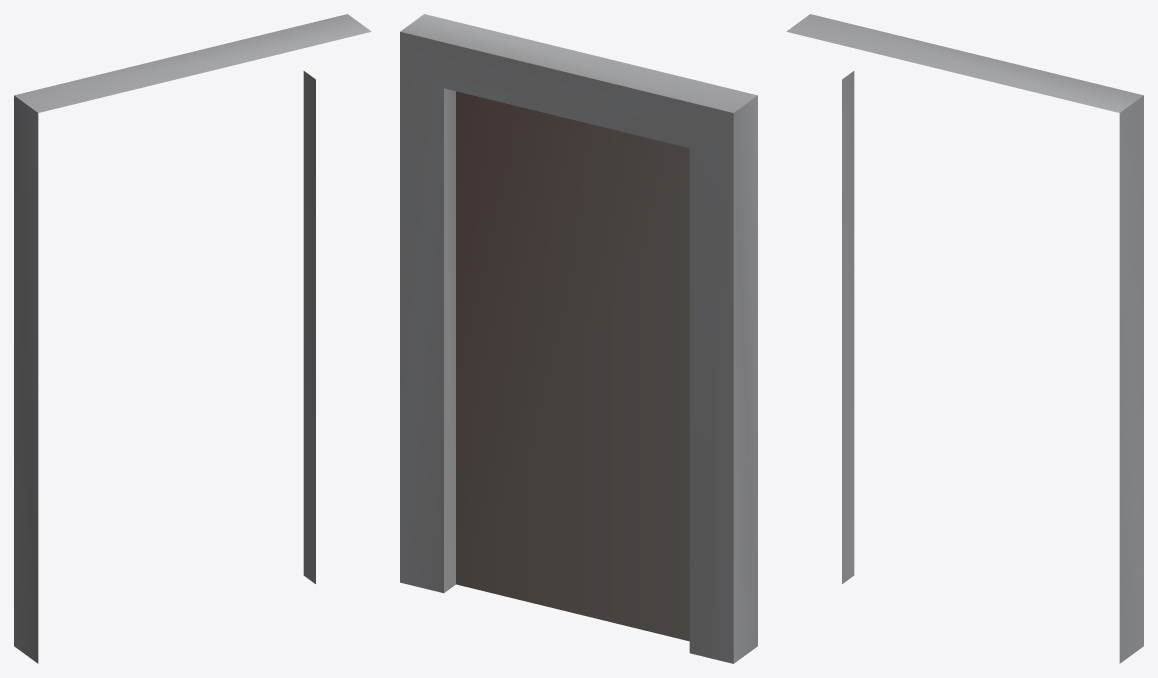
File: door-type-b.glb
The picture shows the model from 3 angles, left to right: view 1: azimuth 30°, elevation 25°; view 2: azimuth 150°, elevation 25°; view 3: azimuth 330°, elevation 25°; orthographic projection.
Visible parts, largest first — view 1: door-type-b; view 2: door-type-b; view 3: door-type-b.
Part boxes in pixels (bbox=[...]): door-type-b: bbox=[14, 14, 371, 663]; door-type-b: bbox=[400, 14, 757, 663]; door-type-b: bbox=[786, 14, 1143, 663].
Size of the model in its own units: 0.3978 by 0.6278 by 0.05.
